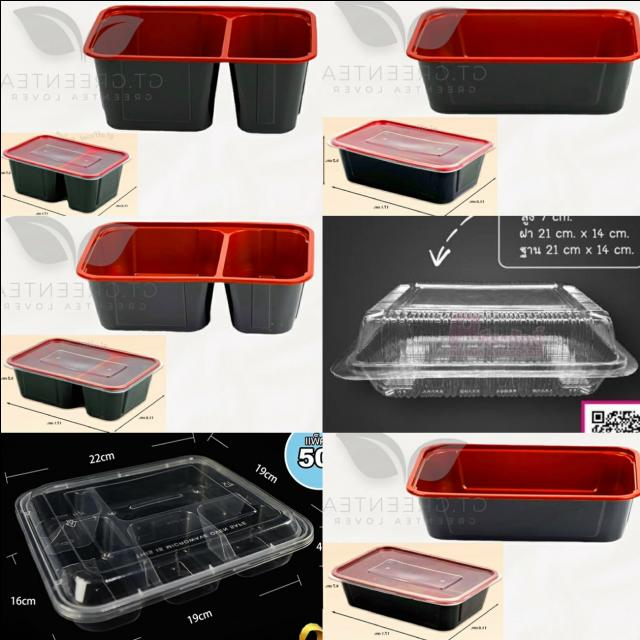plastik: (14, 454, 313, 630), (331, 281, 637, 396), (83, 4, 315, 132), (75, 222, 313, 332), (406, 7, 640, 113), (406, 443, 640, 540), (328, 544, 500, 630), (327, 119, 493, 203), (5, 337, 162, 420), (2, 134, 129, 211)
